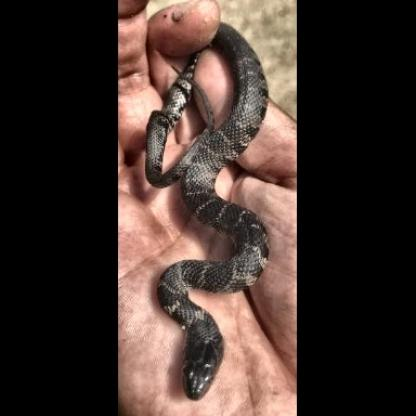Snake: (145, 2, 282, 414), (136, 9, 291, 218)
